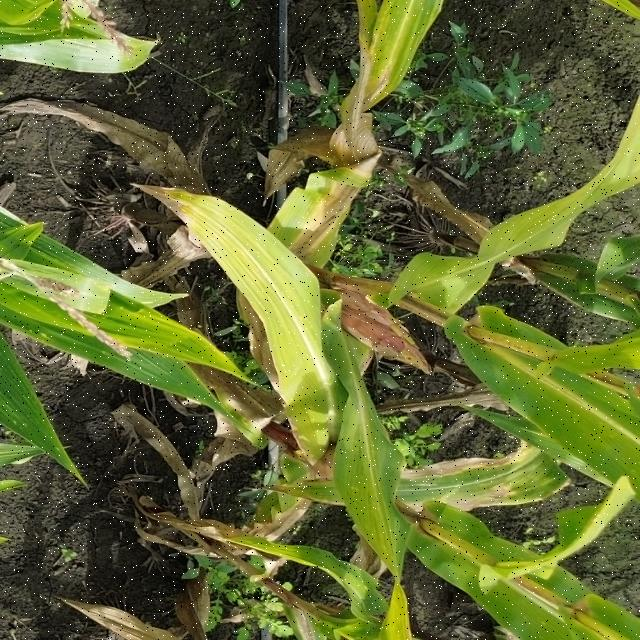northern-leaf-blight: (275, 427, 566, 522), (333, 0, 435, 134), (234, 465, 340, 542)
southern-leaf-blight: (7, 360, 74, 480)
